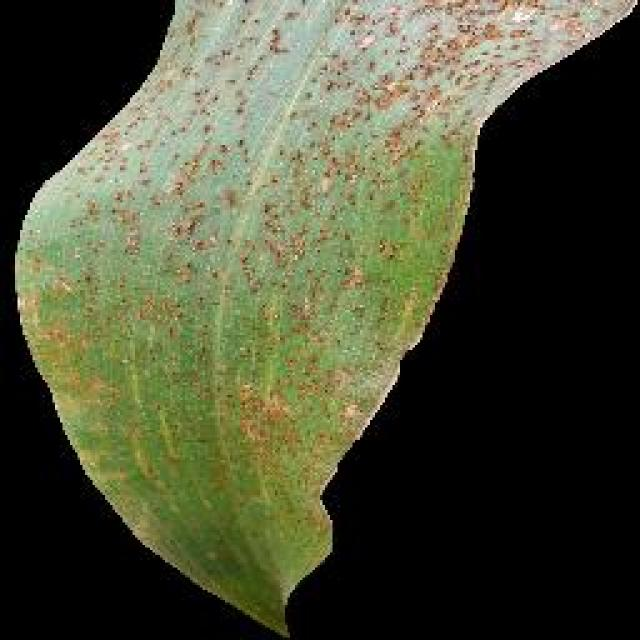Corn Common Rust: (161, 0, 556, 593)
